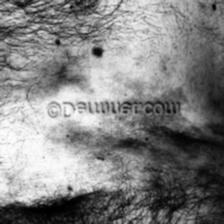Unclassified: (56, 27, 120, 60), (52, 172, 90, 194)
